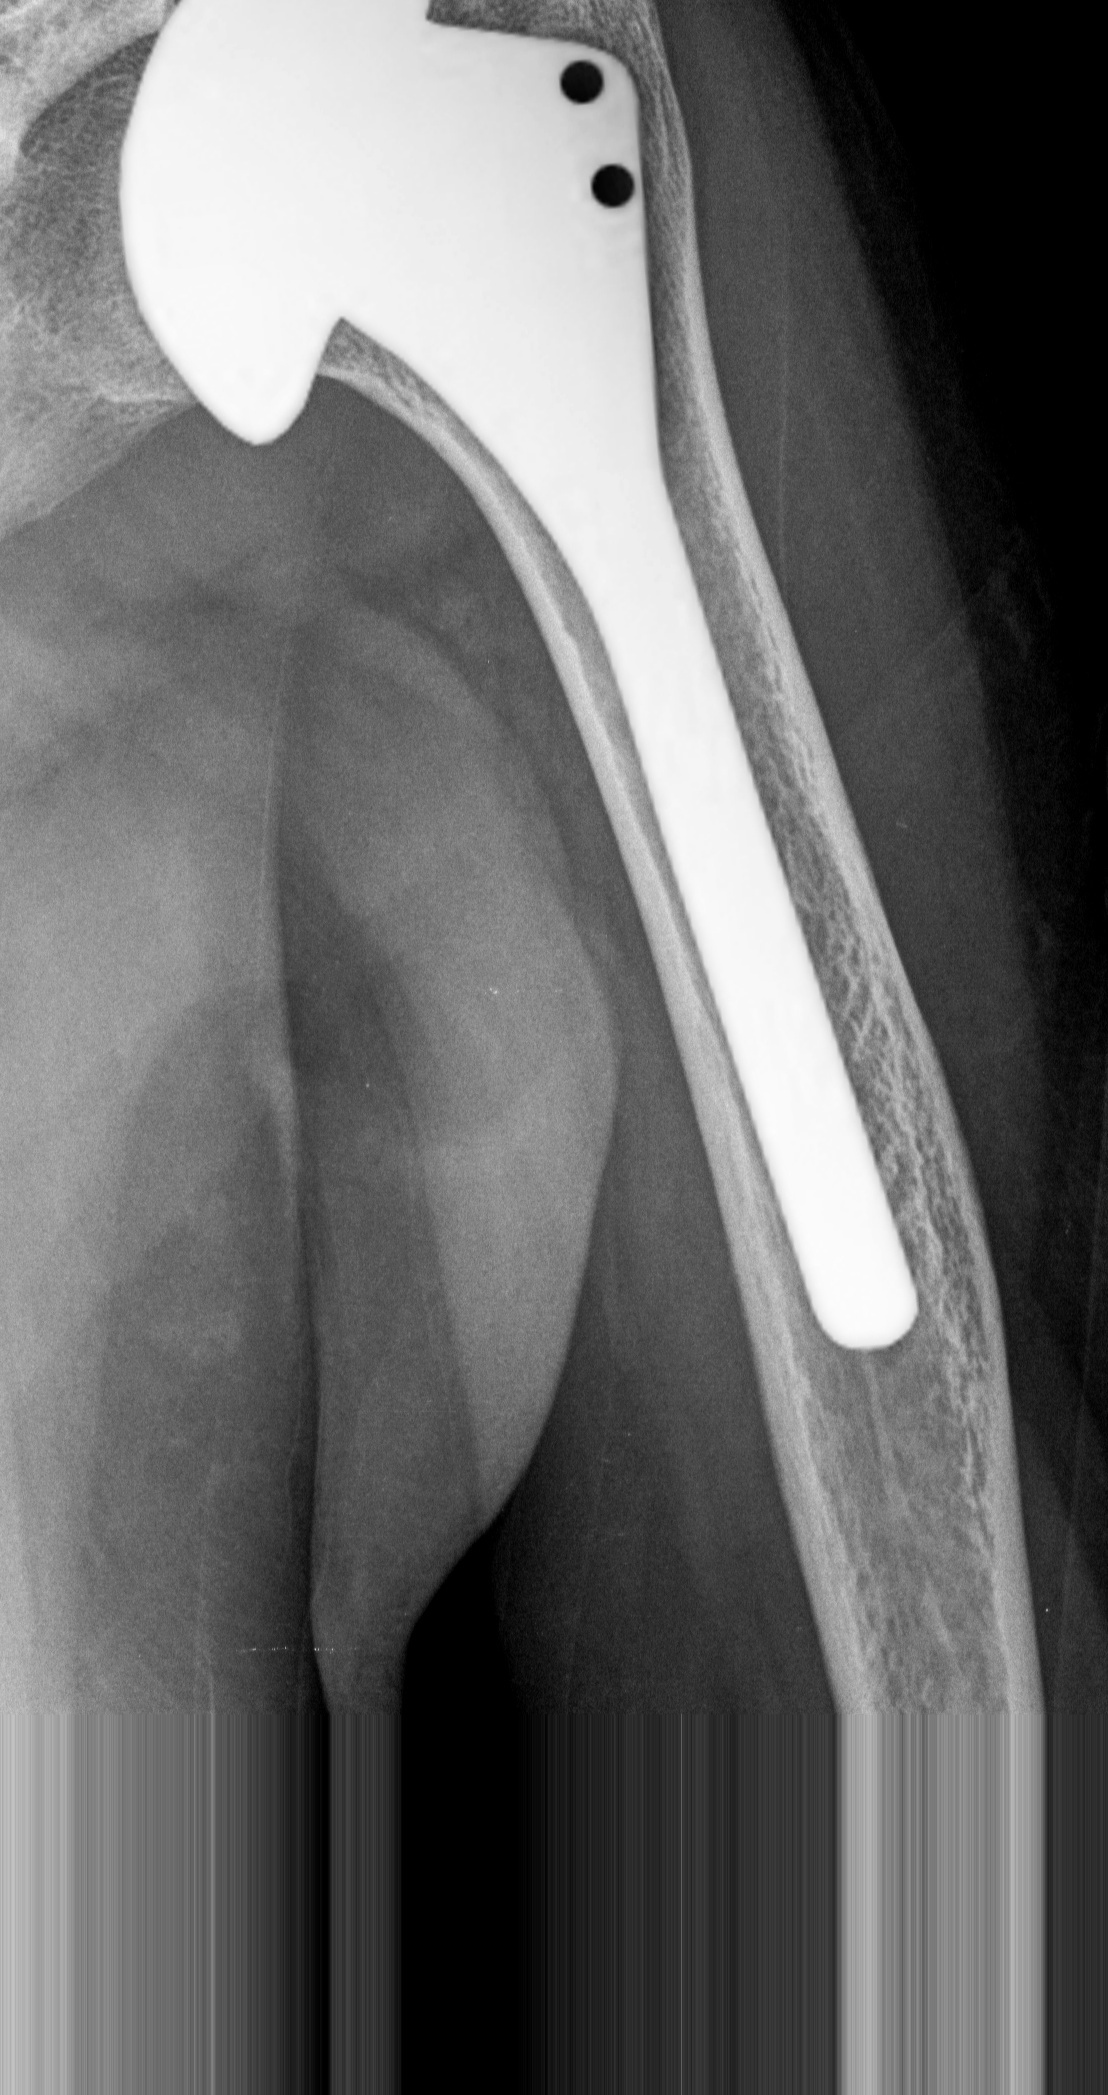Shoulder - Aequalishead - Tornier: (102, 1, 476, 467)
Shoulder - Aequalistail - Tornier: (217, 1, 717, 520)
